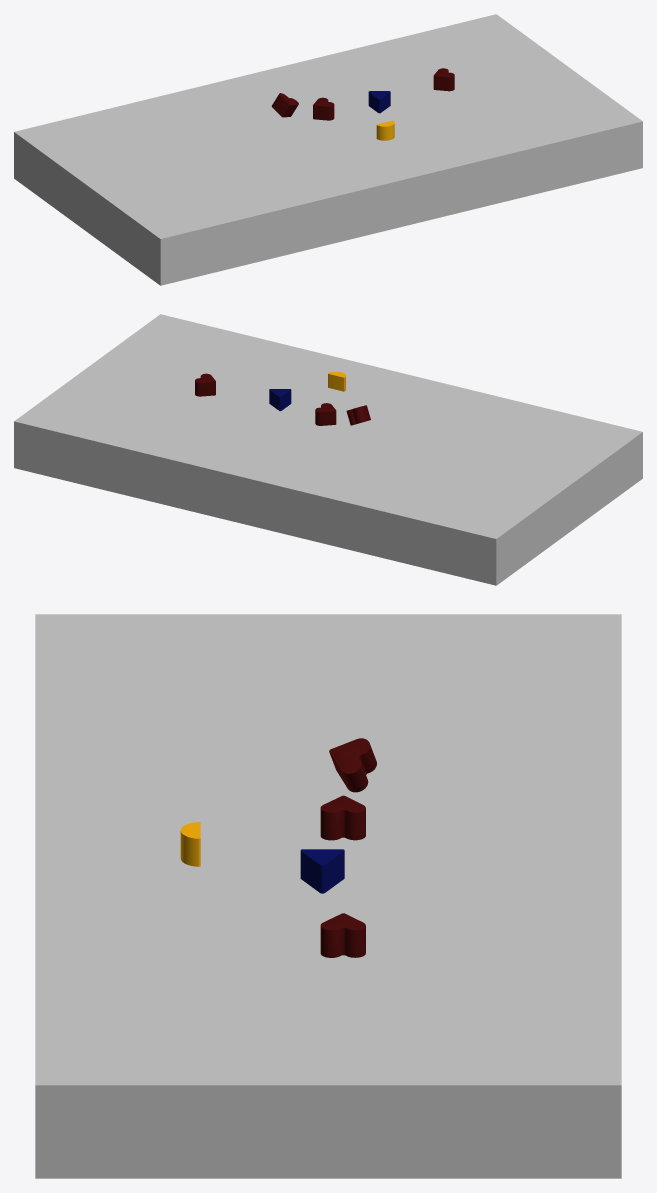
3 renders of one model, top to bottom at view 1: azimuth 30°, elevation 25°; view 2: azimuth 150°, elevation 25°; view 3: azimuth 270°, elevation 25°, orthographic. The views are drawn at different scales.
Visible parts, largest first — view 1: Cube, 3MF_Object.004, 3MF_Object.005, 3MF_Object, 3MF_Object.002; view 2: Cube, 3MF_Object.004, 3MF_Object.002, 3MF_Object.005; view 3: Cube, 3MF_Object.004, 3MF_Object.005, 3MF_Object, 3MF_Object.002, 3MF_Object.001.
Part boxes in pixels (x1,y1,x2,y2): Cube: (14, 14, 642, 285); 3MF_Object.004: (313, 97, 334, 120); 3MF_Object.005: (433, 68, 454, 91); 3MF_Object: (271, 93, 298, 117); 3MF_Object.002: (368, 91, 390, 113); Cube: (14, 314, 642, 585); 3MF_Object.004: (315, 403, 336, 425); 3MF_Object.002: (269, 389, 291, 411); 3MF_Object.005: (195, 373, 215, 396); Cube: (35, 614, 621, 1178); 3MF_Object.004: (320, 795, 365, 840); 3MF_Object.005: (320, 913, 365, 957); 3MF_Object: (329, 738, 376, 792); 3MF_Object.002: (300, 849, 344, 893); 3MF_Object.001: (180, 822, 200, 866).
Size of the model in its own units: 0.865 by 0.1417 by 0.455.
